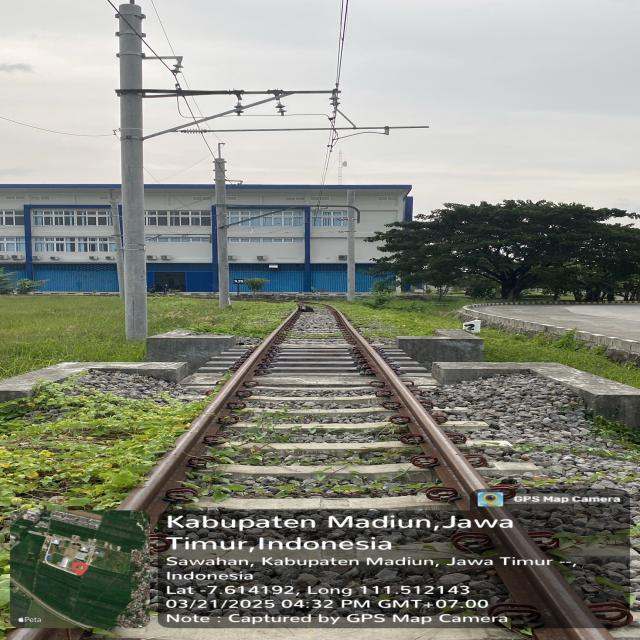rail-detection: (326, 306, 613, 640), (117, 309, 300, 529)
